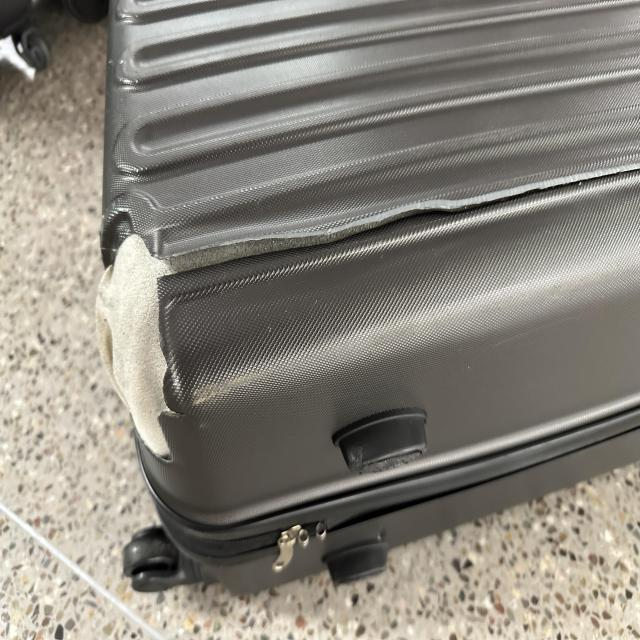Damage-bag: (96, 208, 296, 460)
